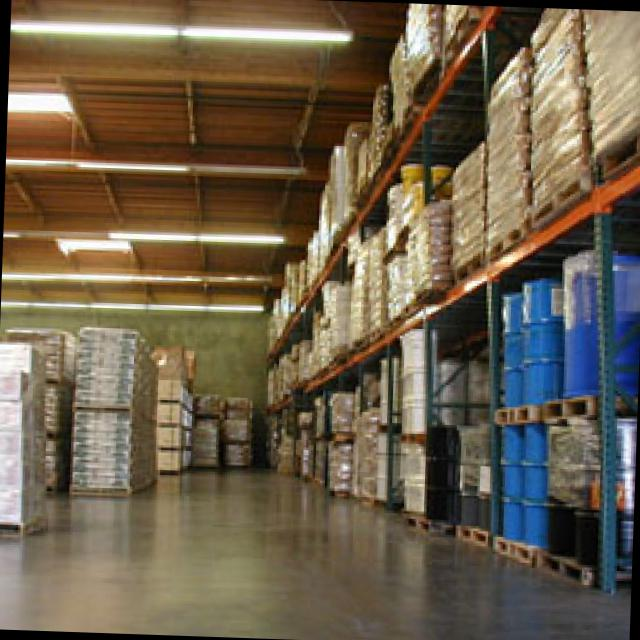cans: (499, 276, 559, 404), (496, 420, 542, 545)
ceiling beam: (1, 0, 489, 308)
floor -X: (0, 461, 629, 640)
lamp crop: (10, 19, 348, 41), (5, 154, 300, 174), (4, 271, 269, 284), (5, 229, 281, 241), (50, 238, 128, 253)
lamp occluded: (7, 88, 70, 111)
merchandise: (264, 3, 482, 341), (525, 8, 640, 202), (447, 42, 524, 264), (67, 324, 156, 483), (4, 326, 72, 486), (0, 340, 44, 520), (347, 227, 385, 336), (155, 369, 192, 467), (324, 390, 353, 491), (217, 392, 253, 462)
pallet: (454, 217, 524, 282), (524, 169, 590, 230), (539, 545, 594, 580), (69, 474, 155, 493), (490, 534, 540, 565), (0, 510, 45, 535), (495, 403, 539, 424)
pallets: (349, 284, 444, 354)
shelves crop: (264, 6, 640, 590)
wall clock: (0, 299, 268, 461)
